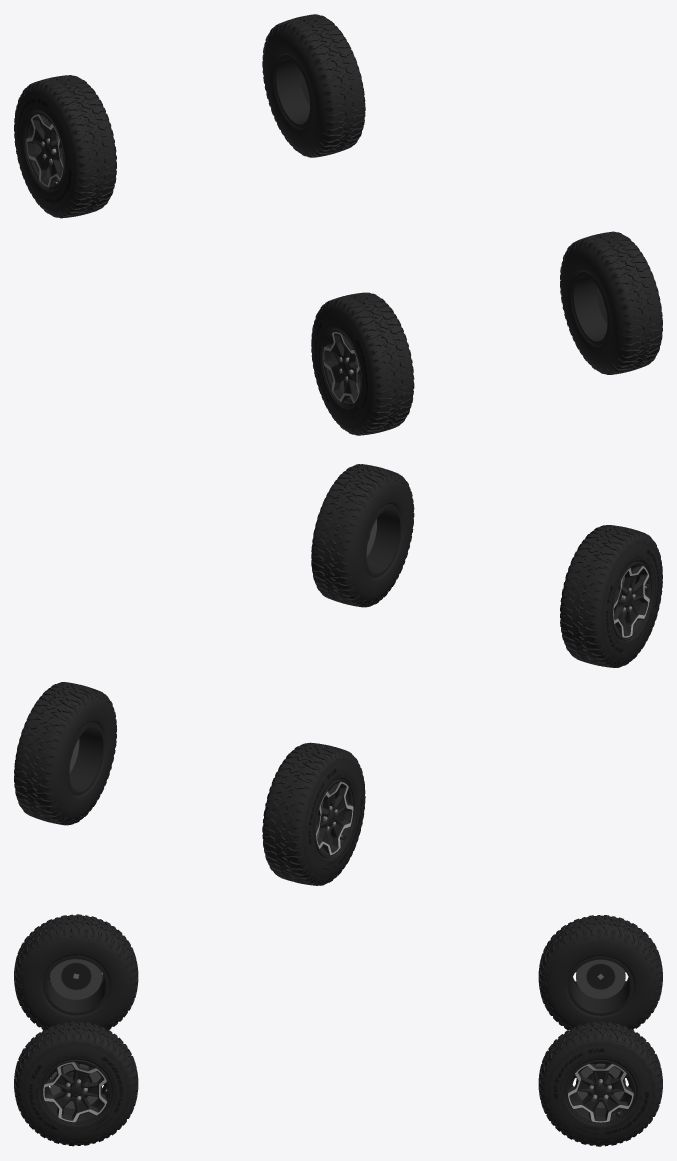
Rendered from jeepWheels.fbx.
The picture shows the model from 3 angles, top to bottom: view 1: azimuth 30°, elevation 25°; view 2: azimuth 150°, elevation 25°; view 3: azimuth 270°, elevation 25°; orthographic projection. The views are drawn at different scales.
Parts seen in each view (by area): view 1: wheel-LF, wheel-LB, wheel-RB, wheel-RF; view 2: wheel-LF, wheel-LB, wheel-RB, wheel-RF; view 3: wheel-RB, wheel-RF, wheel-LB, wheel-LF.
Part boxes in pixels (x1=…): wheel-LF: x1=14, y1=75, x2=116, y2=218; wheel-LB: x1=311, y1=292, x2=414, y2=435; wheel-RB: x1=560, y1=231, x2=662, y2=374; wheel-RF: x1=262, y1=14, x2=365, y2=157; wheel-LF: x1=262, y1=742, x2=365, y2=885; wheel-LB: x1=560, y1=525, x2=662, y2=667; wheel-RB: x1=311, y1=464, x2=414, y2=607; wheel-RF: x1=14, y1=682, x2=116, y2=825; wheel-RB: x1=14, y1=1021, x2=138, y2=1146; wheel-RF: x1=538, y1=1021, x2=662, y2=1146; wheel-LB: x1=14, y1=914, x2=138, y2=1029; wheel-LF: x1=538, y1=915, x2=662, y2=1030.
Bounding box in the file's own units: 2 × 0.8328 × 4.33.
1 material, 1 textured.
